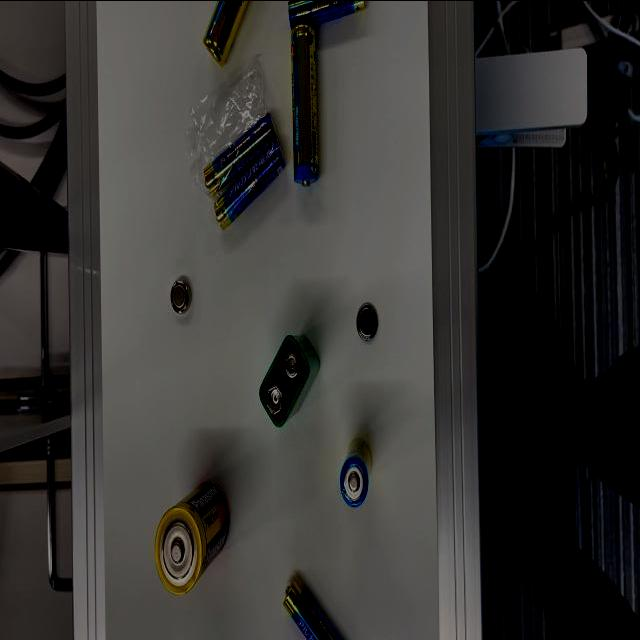9V: (260, 331, 320, 429)
